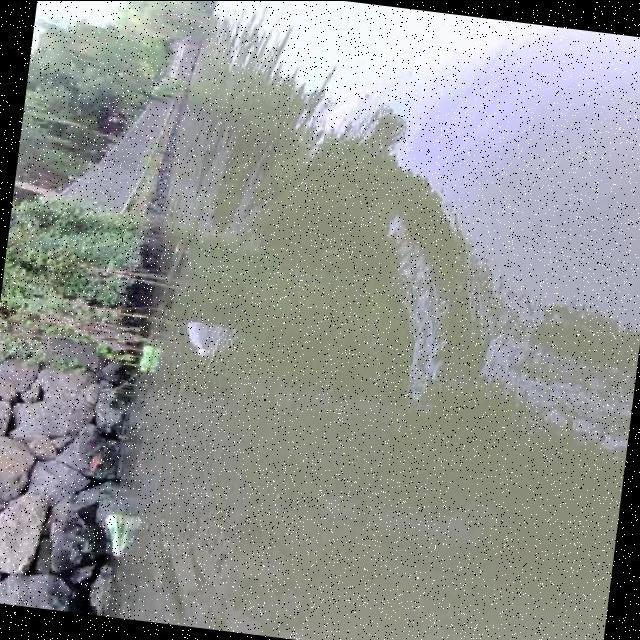Bottle: (183, 312, 216, 363), (104, 508, 130, 559), (136, 338, 158, 377)
